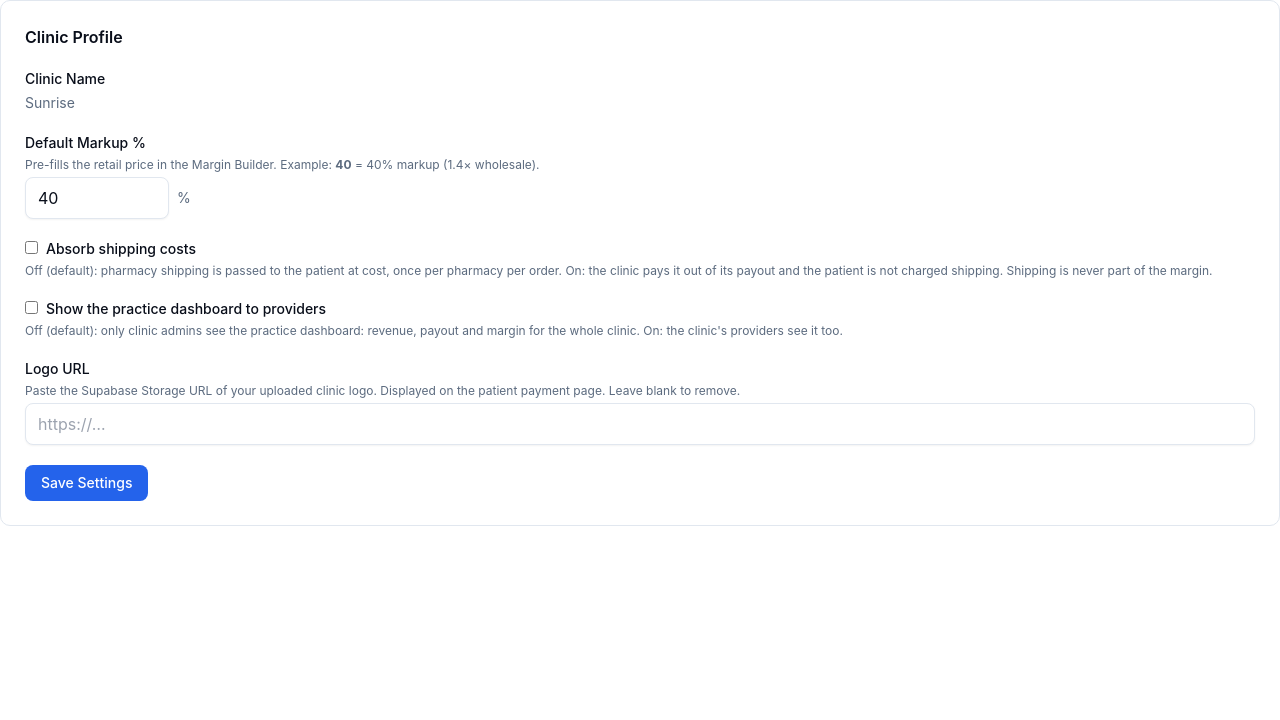
Scenario: an untouched form says "No changes to save." and sends nothing
Click the button "Save Settings" at {"x": 87, "y": 483}, box [25,465,148,501]
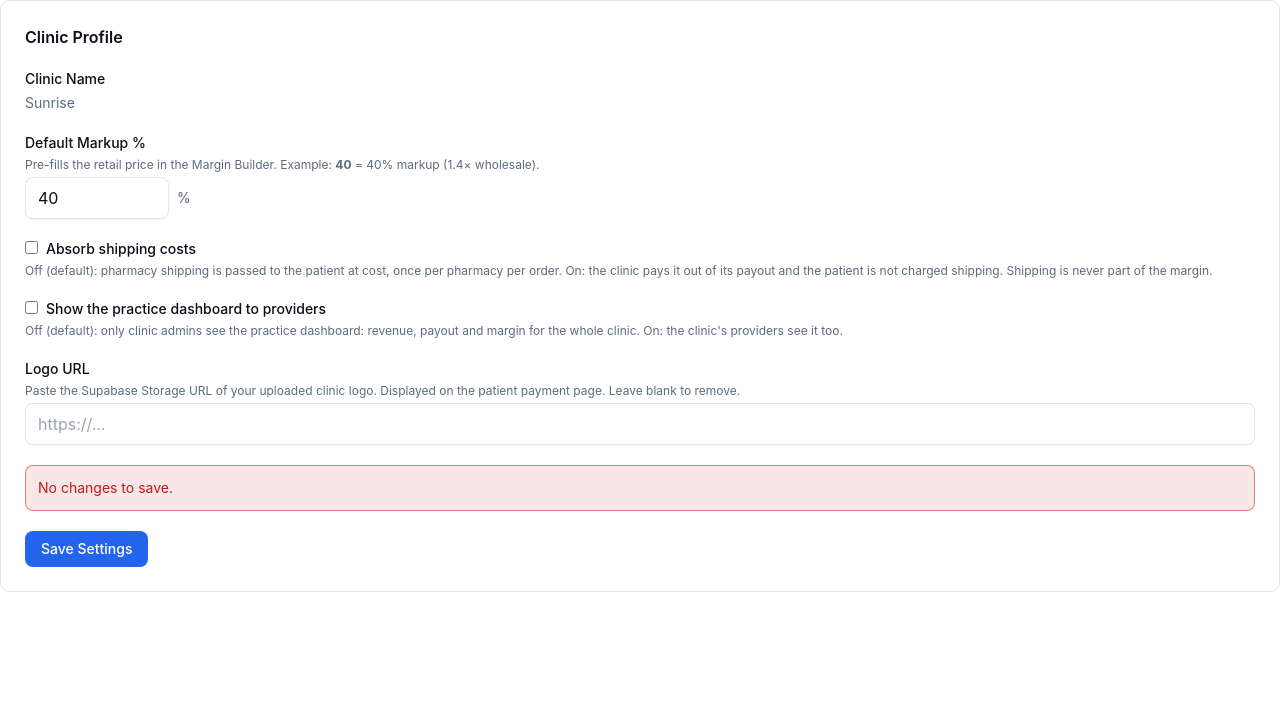
Result: the text "No changes to save." is shown at [25,465,1255,511]
